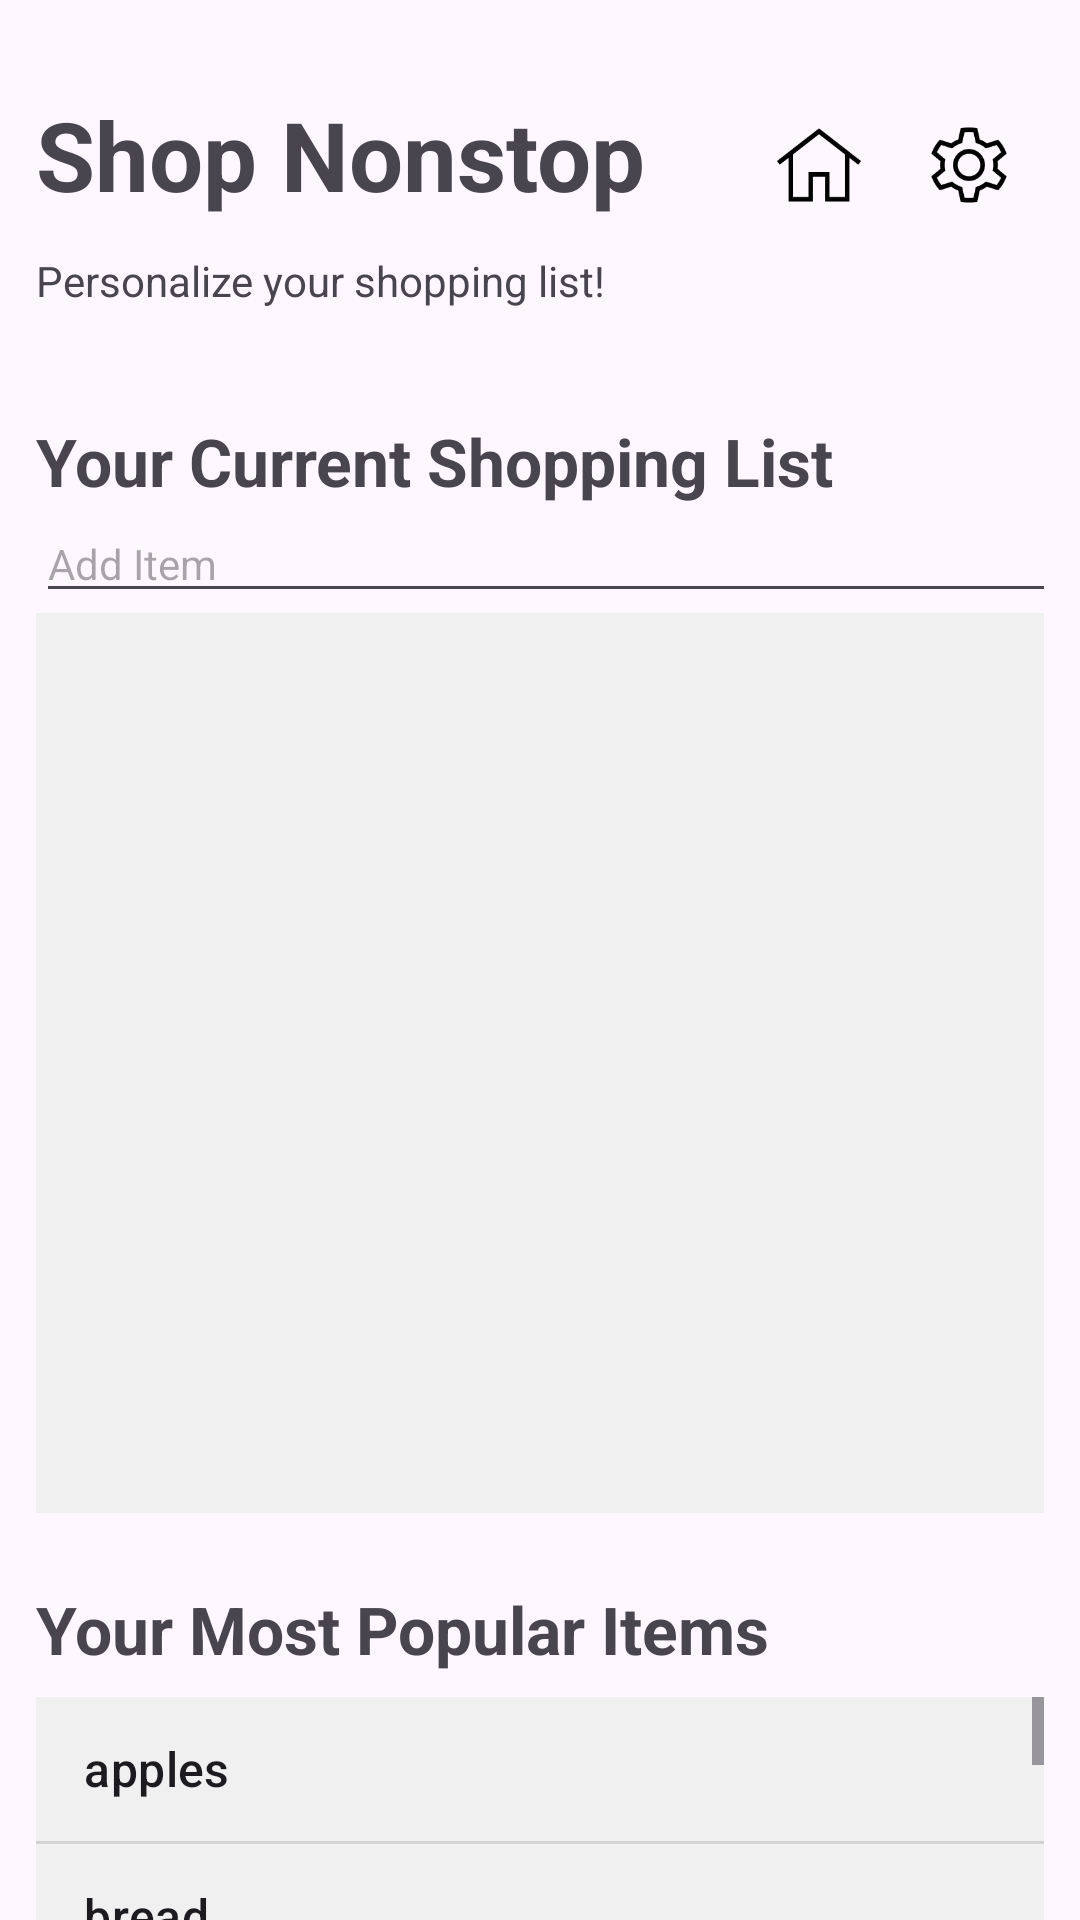

Icons on this 1080 x 1920 Android screen, each with its box as box(x1, y1, x2, y2):
home: box(777, 128, 861, 202)
settings: box(931, 127, 1007, 203)
